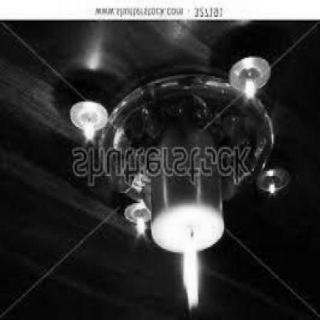Fire: (243, 66, 259, 104)
